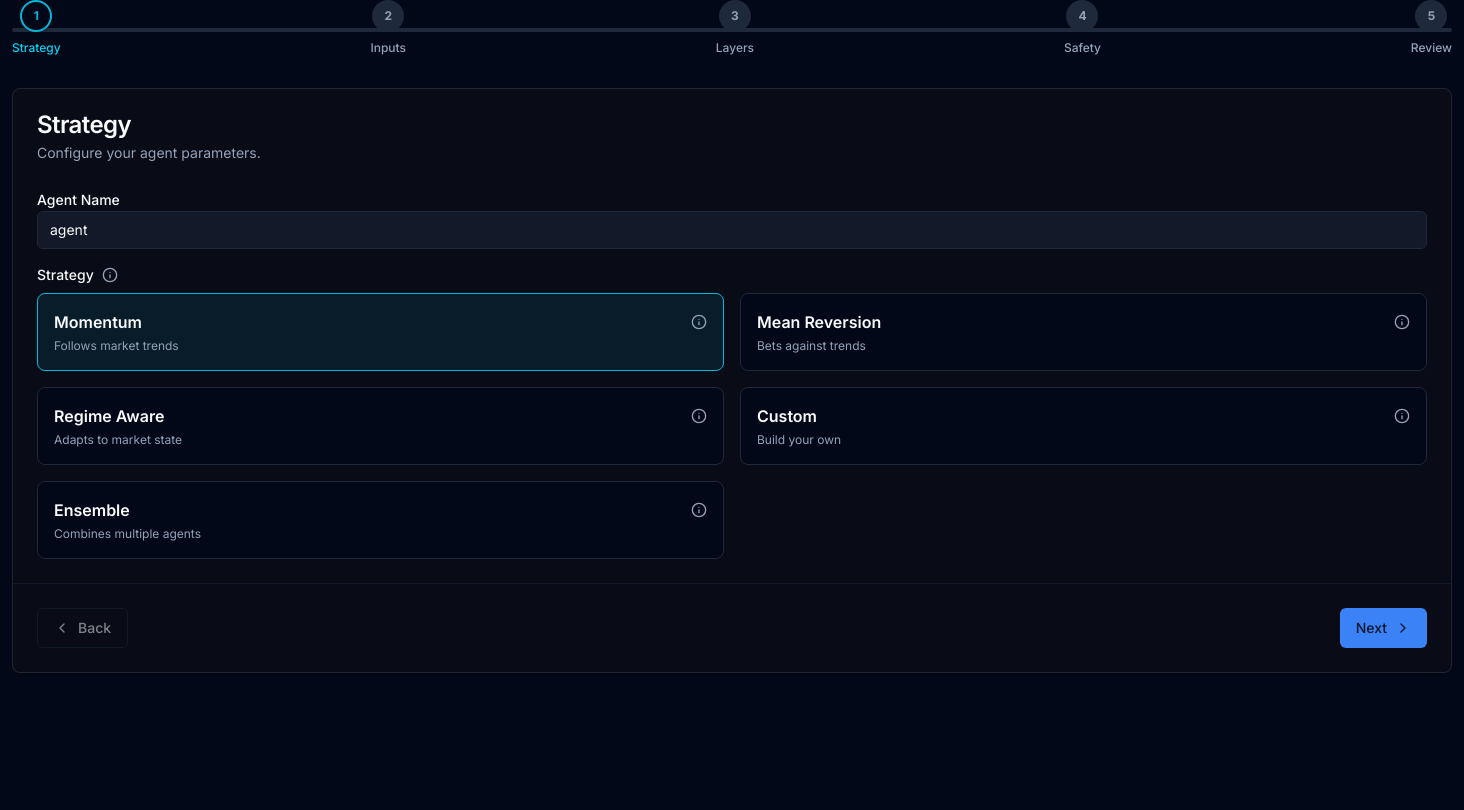
Test: Wizard › renders an API error banner when next step fails
Click the button "Next".
click(1383, 628)  # box [1340,608,1427,648]
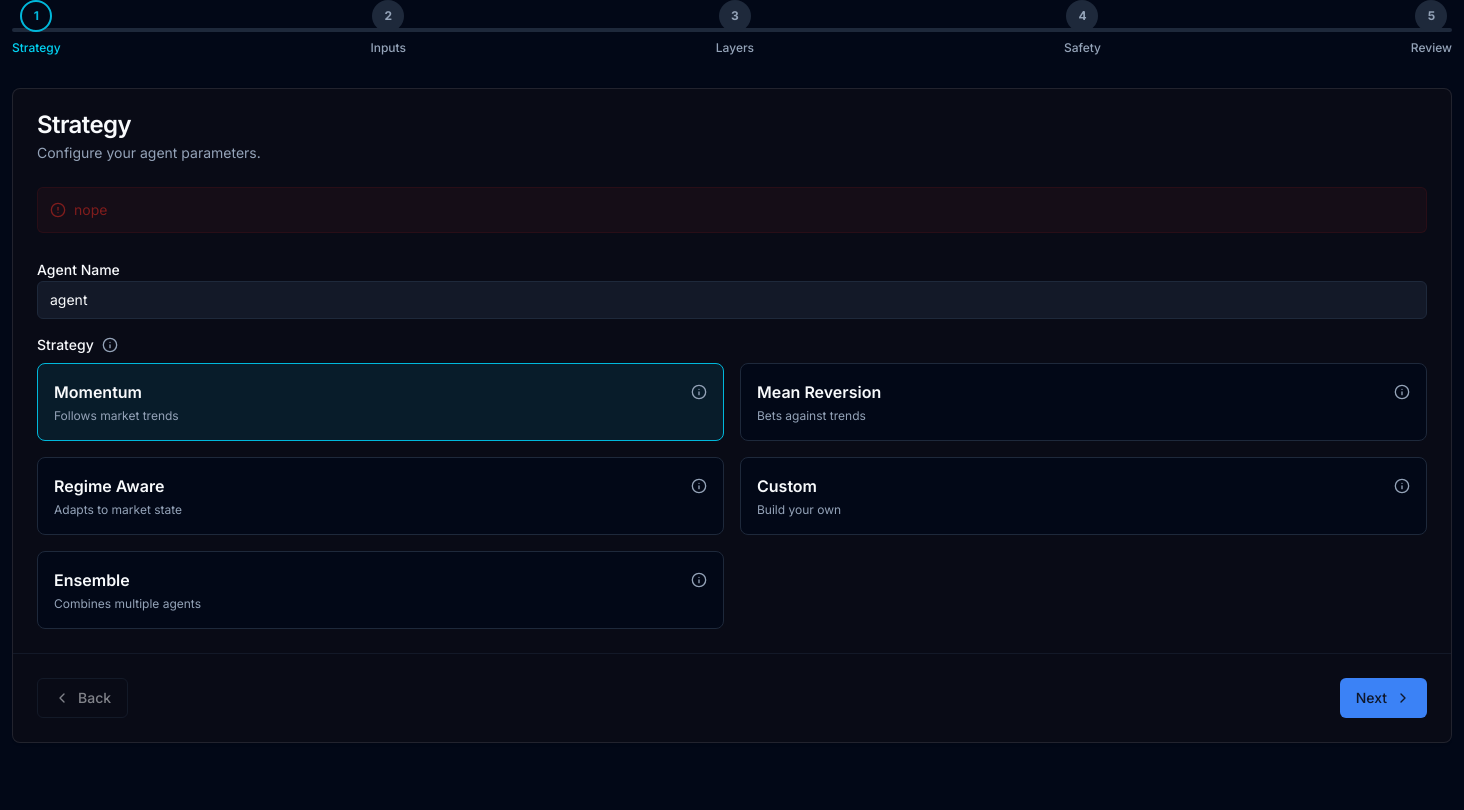
Expected: the text "nope" is shown, [37,187,1427,233]
